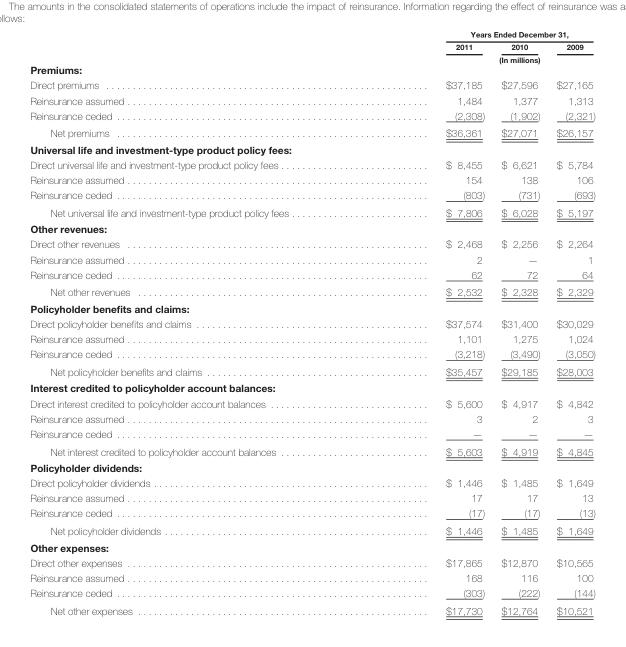table: (29, 29, 594, 616)
table column: (29, 29, 366, 616), (366, 29, 492, 616), (492, 29, 547, 616), (547, 29, 594, 616)
table column header: (29, 29, 594, 63)
table projected row header: (29, 140, 594, 157), (29, 220, 594, 236), (29, 300, 594, 316), (29, 379, 594, 395), (29, 459, 594, 475), (29, 538, 594, 554), (29, 63, 594, 77)
table row: (29, 107, 594, 124), (29, 140, 594, 157), (29, 203, 594, 220), (29, 266, 594, 283), (29, 283, 594, 300), (29, 362, 594, 379), (29, 425, 594, 442), (29, 442, 594, 459), (29, 521, 594, 538), (29, 584, 594, 601), (29, 124, 594, 140), (29, 187, 594, 203), (29, 220, 594, 236), (29, 300, 594, 316), (29, 346, 594, 362), (29, 379, 594, 395), (29, 459, 594, 475), (29, 505, 594, 521), (29, 538, 594, 554), (29, 77, 594, 92), (29, 92, 594, 107), (29, 157, 594, 172), (29, 172, 594, 187), (29, 236, 594, 251), (29, 251, 594, 266), (29, 316, 594, 331), (29, 331, 594, 346), (29, 395, 594, 410), (29, 410, 594, 425), (29, 475, 594, 490), (29, 490, 594, 505), (29, 554, 594, 569), (29, 569, 594, 584), (29, 601, 594, 616), (29, 63, 594, 77), (29, 40, 594, 52), (29, 29, 594, 40), (29, 52, 594, 63)
table spanning cell: (366, 29, 594, 40), (366, 52, 594, 63)
